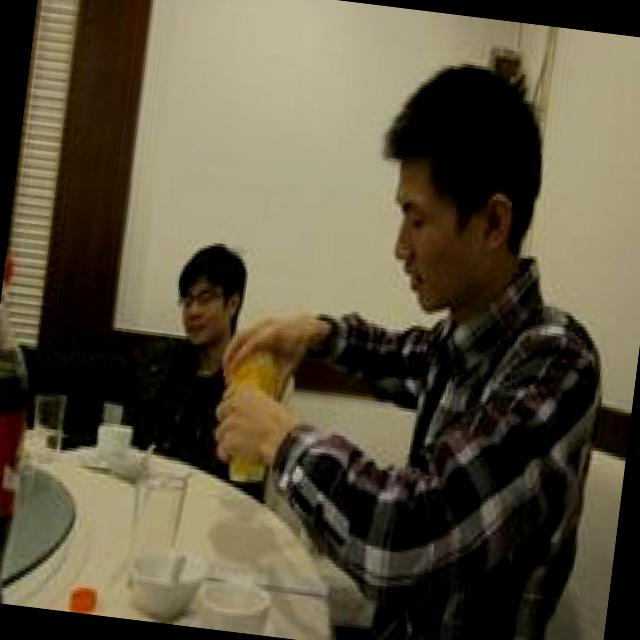no_vest: (369, 239, 632, 640), (110, 322, 230, 464)
